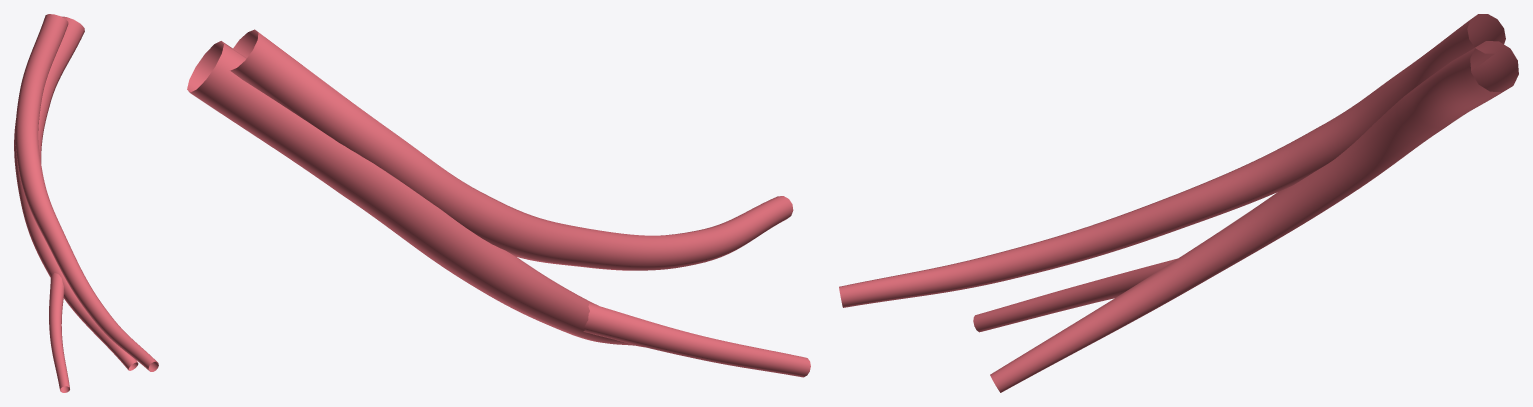
The picture shows the model from 3 angles, left to right: view 1: azimuth 30°, elevation 25°; view 2: azimuth 150°, elevation 25°; view 3: azimuth 270°, elevation 25°; orthographic projection. The views are drawn at different scales.
Visible parts, largest first — view 1: ZA_61ebf1d1efac2ffa; view 2: ZA_61ebf1d1efac2ffa; view 3: ZA_61ebf1d1efac2ffa.
Part boxes in pixels (x1,y1,x2,y2): ZA_61ebf1d1efac2ffa: [14, 14, 158, 392]; ZA_61ebf1d1efac2ffa: [187, 29, 810, 377]; ZA_61ebf1d1efac2ffa: [839, 14, 1518, 392].
Size of the model in its own units: 0.0372 by 0.0522 by 0.075.
